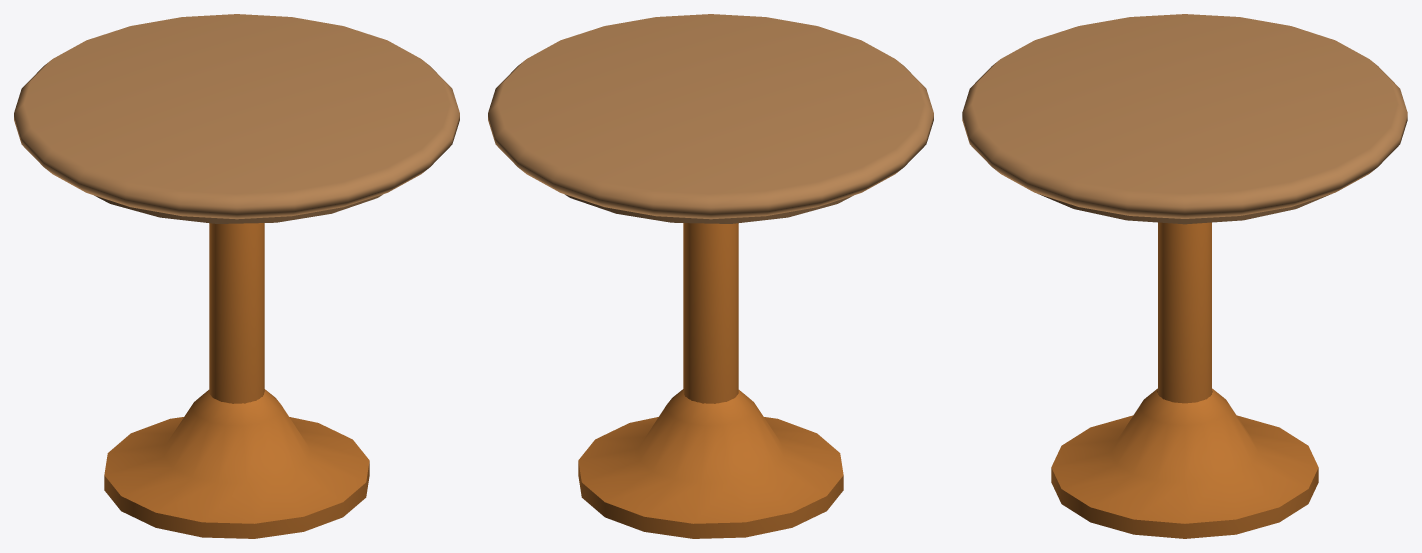
Rendered from Table_Cafe_Round_01.glb.
The picture shows the model from 3 angles, left to right: view 1: azimuth 30°, elevation 25°; view 2: azimuth 150°, elevation 25°; view 3: azimuth 270°, elevation 25°; orthographic projection.
Parts seen in each view (by area): view 1: SM_Table_Cafe_Round_01; view 2: SM_Table_Cafe_Round_01; view 3: SM_Table_Cafe_Round_01.
Part boxes in pixels (left/top/right/bottom): SM_Table_Cafe_Round_01: left=14, top=14, right=459, bottom=538; SM_Table_Cafe_Round_01: left=488, top=14, right=933, bottom=538; SM_Table_Cafe_Round_01: left=962, top=14, right=1407, bottom=538.
Size of the model in its own units: 0.8 by 0.75 by 0.8.
1 material, 1 textured.
